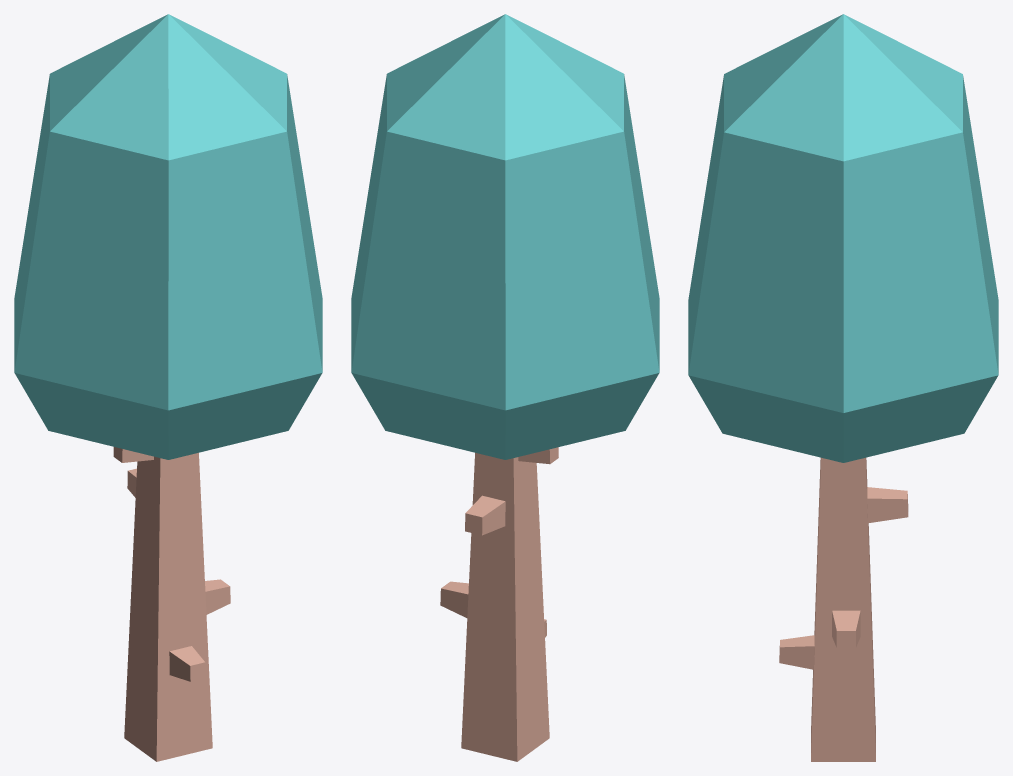
File: tree_default_dark.glb
3 views of the same model, side by side, from view 1: azimuth 30°, elevation 25°; view 2: azimuth 150°, elevation 25°; view 3: azimuth 270°, elevation 25° (orthographic).
Parts seen in each view (by area): view 1: tree_default_dark; view 2: tree_default_dark; view 3: tree_default_dark.
Boxes of the visible parts, x1,y1,x2,y2 form: tree_default_dark: (14, 14, 322, 761); tree_default_dark: (351, 14, 659, 761); tree_default_dark: (688, 14, 998, 761).
Bounding box in the file's own units: 0.755 × 1.71 × 0.6538.
